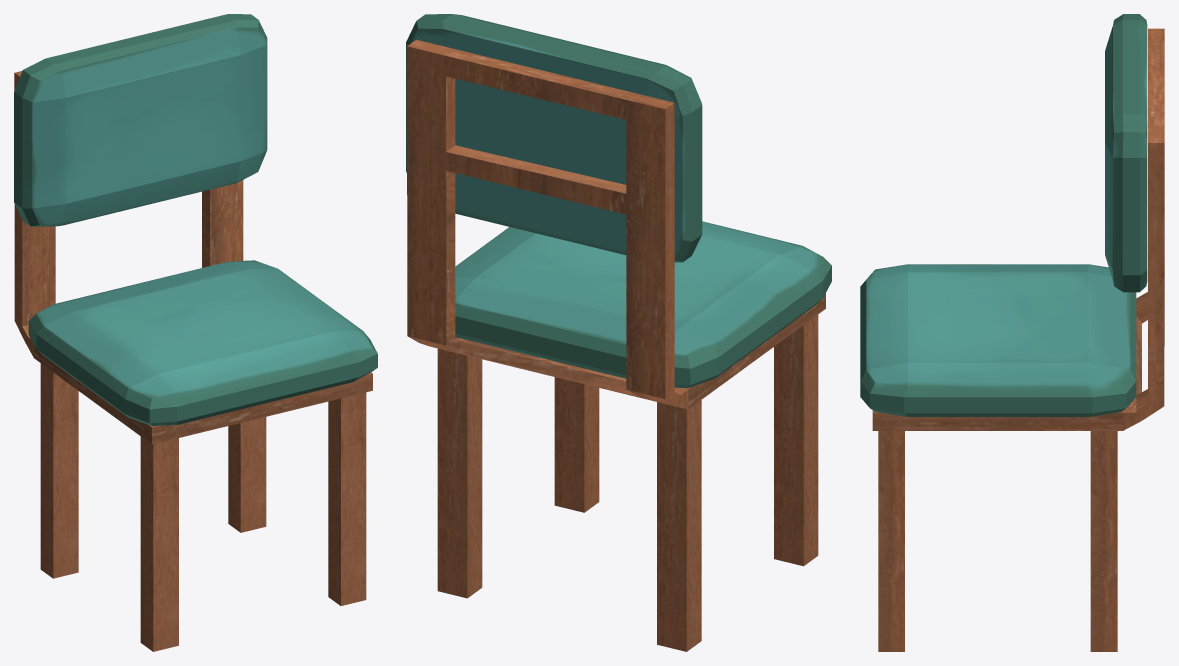
File: teacher chair.fbx
3 views of the same model, side by side, from view 1: azimuth 30°, elevation 25°; view 2: azimuth 150°, elevation 25°; view 3: azimuth 270°, elevation 25° (orthographic). The views are drawn at different scales.
Visible parts, largest first — view 1: cushion.001; view 2: cushion.001; view 3: cushion.001.
Boxes of the visible parts, bbox=[...] form: cushion.001: bbox=[14, 14, 377, 651]; cushion.001: bbox=[406, 14, 831, 651]; cushion.001: bbox=[860, 14, 1164, 651].
Size of the model in its own units: 184 by 357 by 186.
